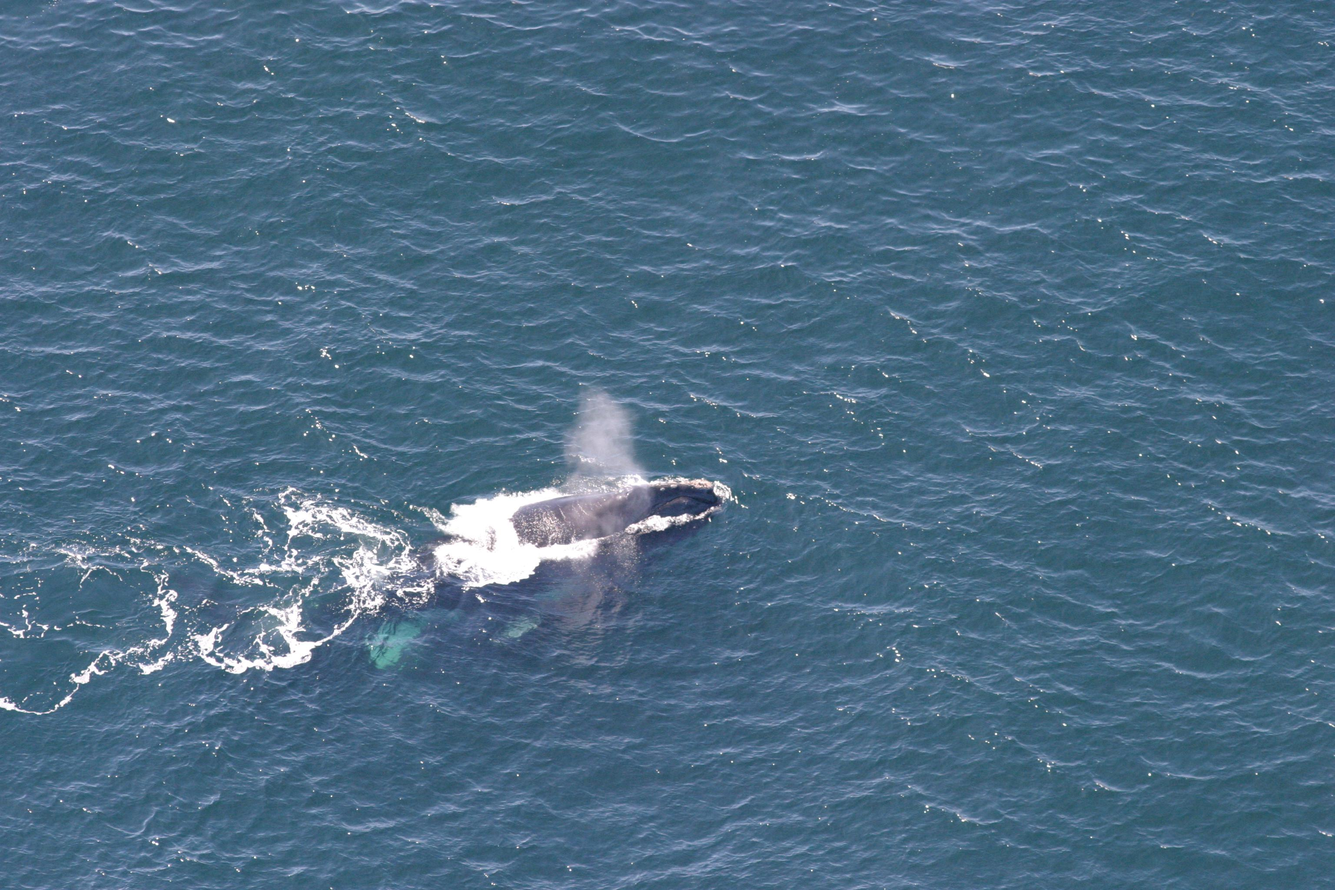whale: (239, 463, 740, 717)
